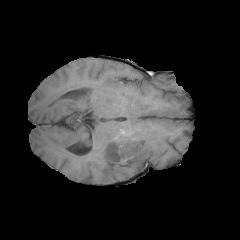glioma: (73, 126, 164, 183)
